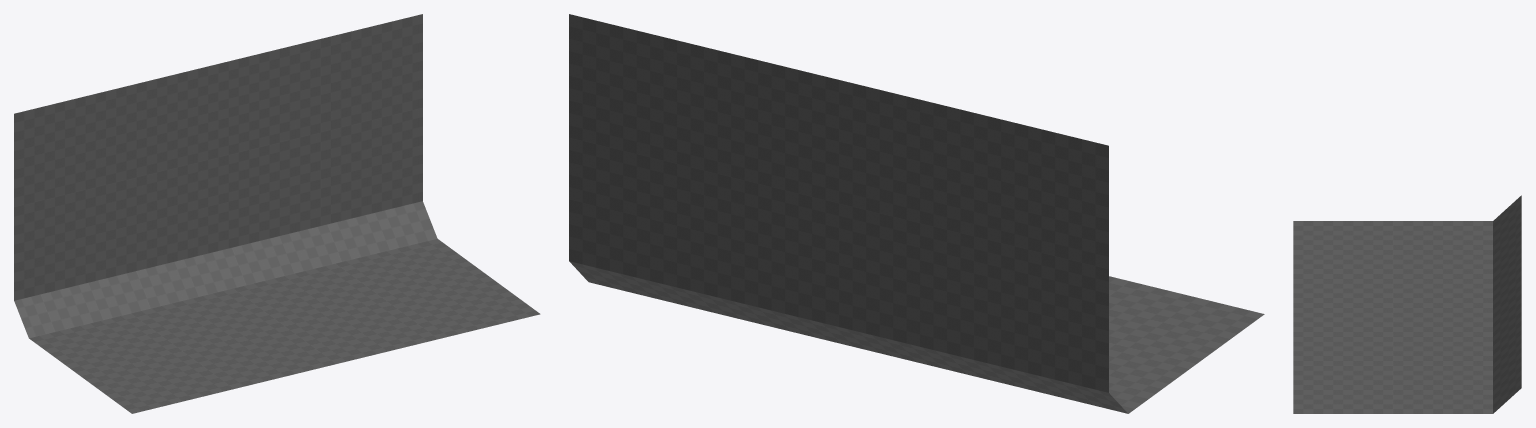
3 renders of one model, left to right at view 1: azimuth 30°, elevation 25°; view 2: azimuth 150°, elevation 25°; view 3: azimuth 270°, elevation 25°, orthographic. The views are drawn at different scales.
Visible parts, largest first — view 1: CubeDownBack; view 2: CubeDownBack; view 3: CubeDownBack.
Boxes of the visible parts, x1,y1,x2,y2 form: CubeDownBack: [14, 14, 540, 413]; CubeDownBack: [569, 14, 1264, 413]; CubeDownBack: [1293, 195, 1521, 413].
Bounding box in the file's own units: 4 × 2 × 2.
1 material, 1 textured.
